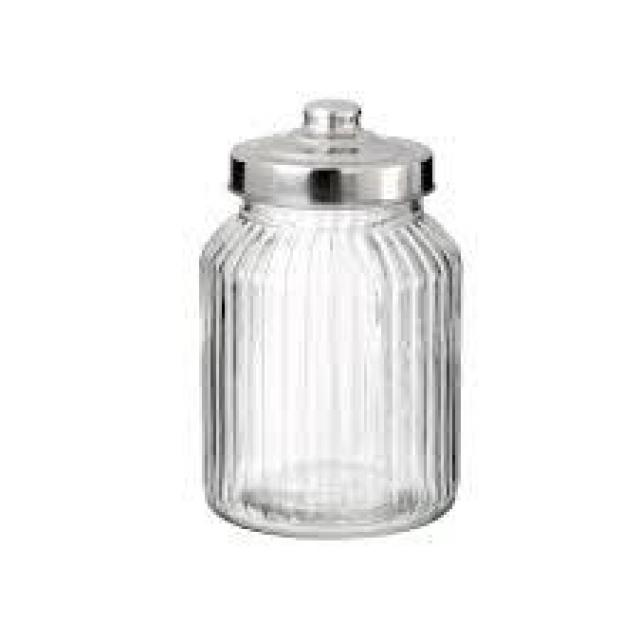non-organic waste: (192, 95, 468, 542)
